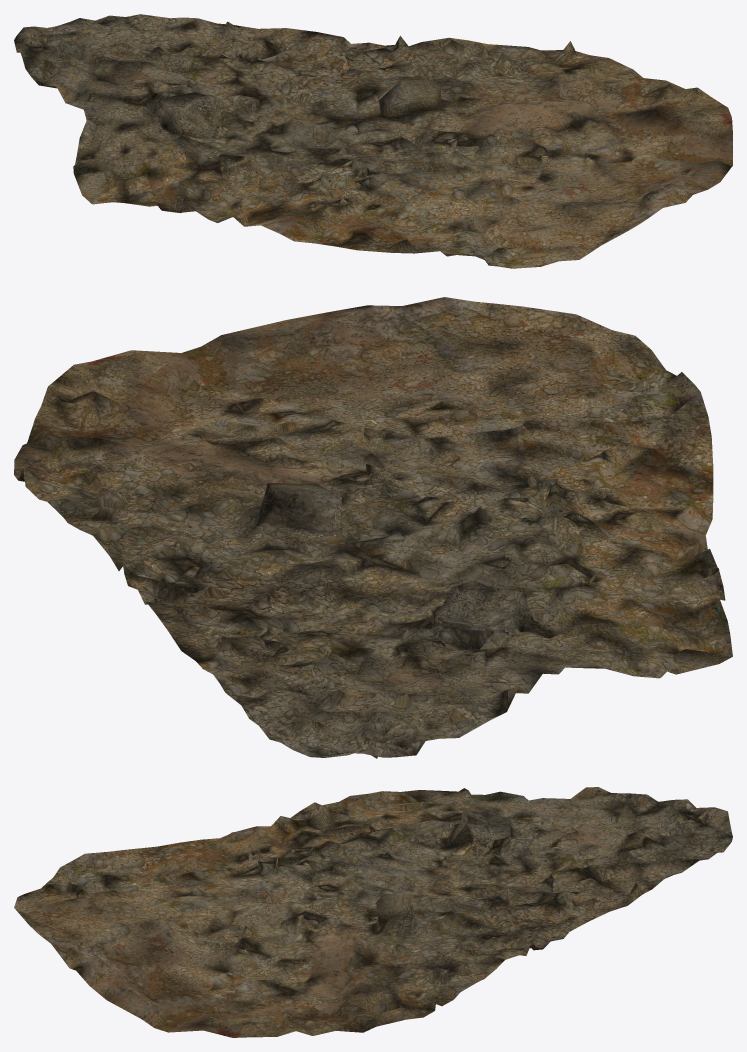
Rendered from coast_land_rocks_04.glb.
3 renders of one model, top to bottom at view 1: azimuth 30°, elevation 25°; view 2: azimuth 150°, elevation 25°; view 3: azimuth 270°, elevation 25°, orthographic. The views are drawn at different scales.
Parts seen in each view (by area): view 1: coast_land_rocks_04_LOD0; view 2: coast_land_rocks_04_LOD0; view 3: coast_land_rocks_04_LOD0.
Part boxes in pixels (x1=…): coast_land_rocks_04_LOD0: x1=14, y1=14, x2=732, y2=268; coast_land_rocks_04_LOD0: x1=14, y1=297, x2=732, y2=758; coast_land_rocks_04_LOD0: x1=14, y1=787, x2=732, y2=1037.
Size of the model in its own units: 9.95 by 0.8155 by 11.48.
Materials: 1 (1 with a texture image).
